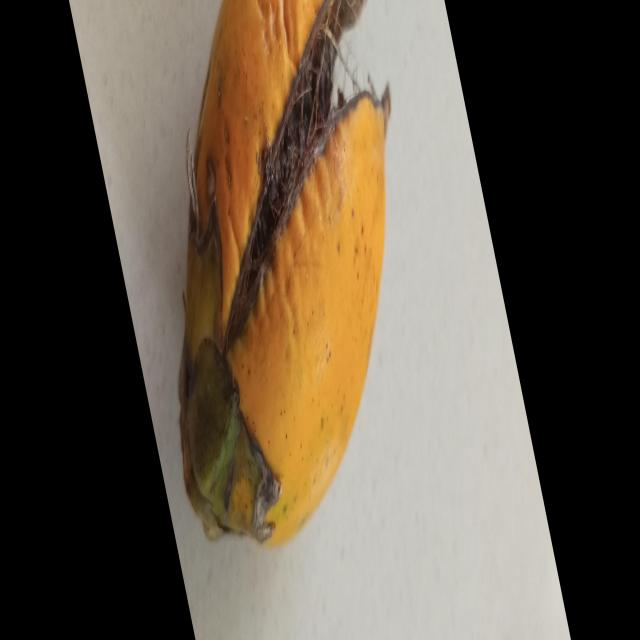damaged: (179, 0, 391, 545)
